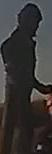gloves: (34, 78, 52, 96)
vest: (1, 27, 36, 100)
